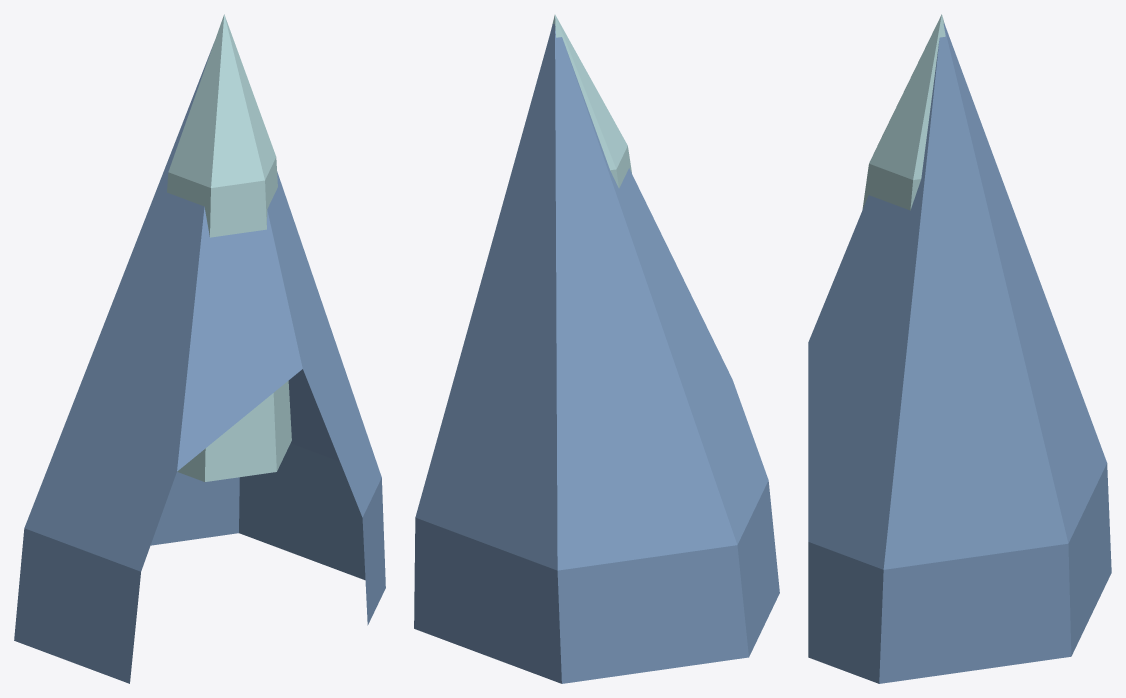
File: cell_175.obj
3 views of the same model, side by side, from view 1: azimuth 30°, elevation 25°; view 2: azimuth 150°, elevation 25°; view 3: azimuth 270°, elevation 25° (orthographic). The views are drawn at different scales.
Bounding box in the file's own units: 0.5503 × 0.9225 × 0.4202.
